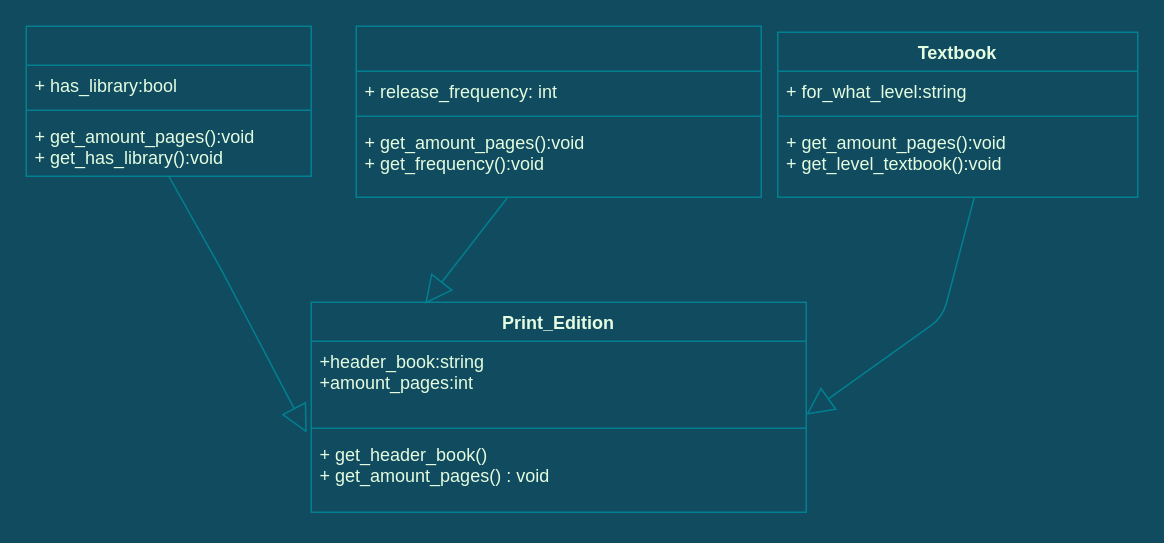
This 1164x543 diagram has some shape labels left out. The box of each missing label's shape, as (x1, y1, x2, y2) in pixels:
Book: (25, 25, 311, 176)
Magazine: (355, 25, 761, 197)
